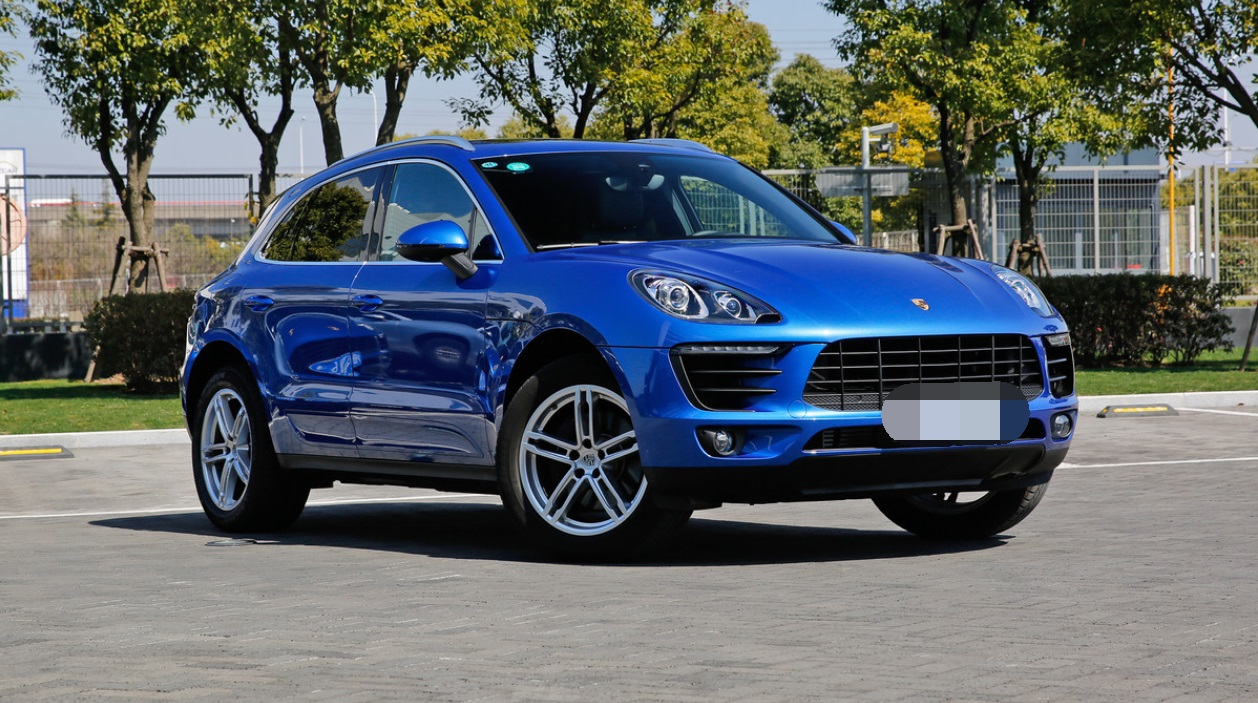SUV: (173, 131, 1081, 557)
